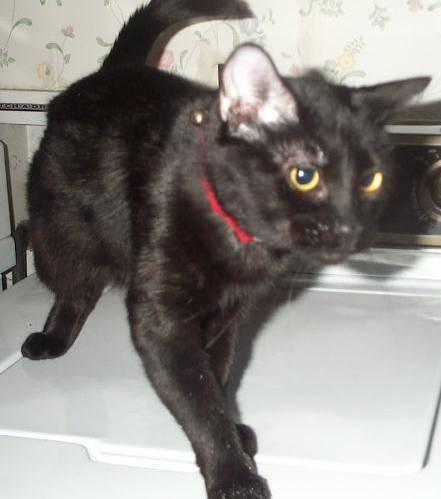cat: (21, 0, 429, 498)
